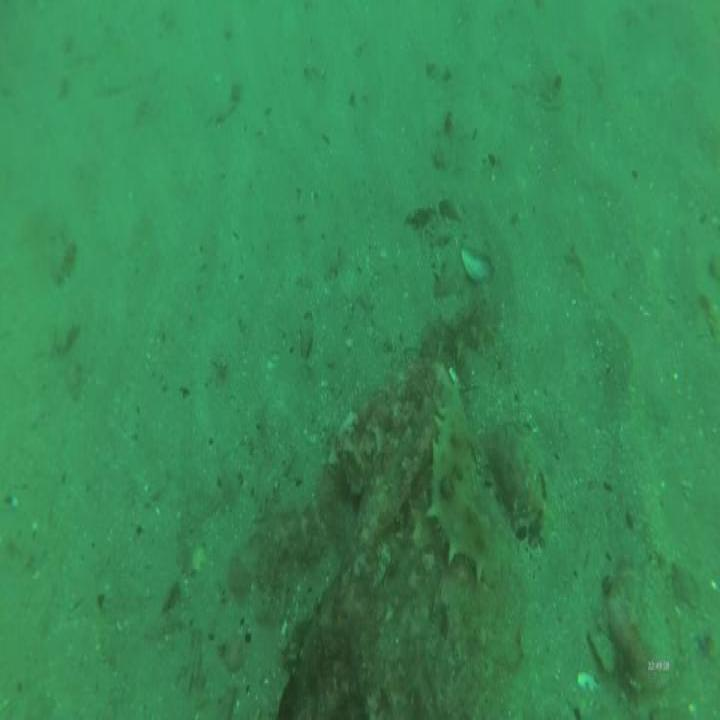holothurian: (426, 382, 515, 590), (488, 416, 548, 544), (419, 295, 496, 357)
